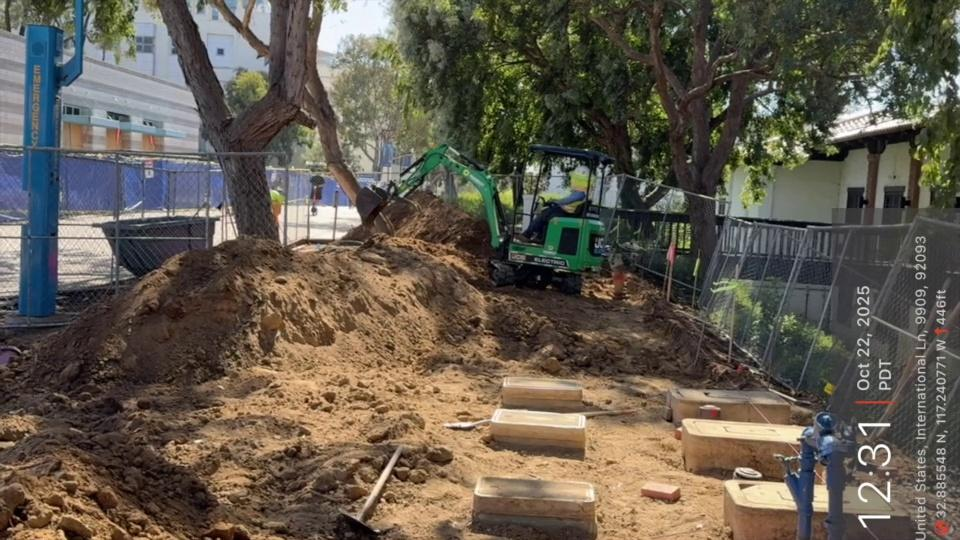Exacavator: (353, 140, 617, 294)
